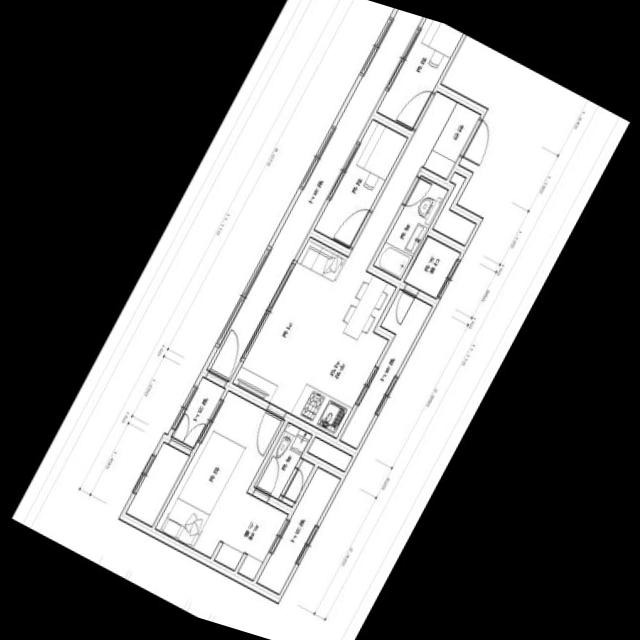background: (11, 0, 629, 640)
space_balconi: (206, 9, 422, 381), (339, 289, 431, 449), (256, 467, 339, 594), (170, 377, 224, 448)
space_bedroom: (154, 391, 284, 558), (313, 119, 406, 248), (376, 18, 462, 130)
space_dressroom: (214, 492, 287, 580)
space_front: (421, 102, 480, 179)
space_kitchen: (289, 271, 395, 438)
space_living_room: (232, 91, 455, 413)
space_multipurpose_space: (403, 236, 459, 298)
space_other: (125, 442, 188, 526), (432, 172, 475, 245), (281, 459, 313, 506), (307, 437, 351, 471)
space_toilet: (373, 176, 447, 279), (253, 422, 311, 499)
